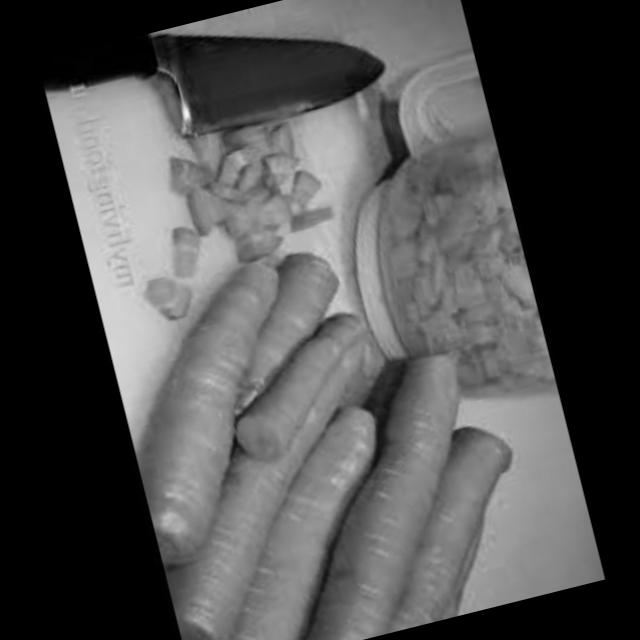ca rot: (112, 296, 435, 640), (220, 329, 515, 640), (98, 240, 342, 568), (136, 392, 427, 640), (101, 67, 361, 301), (358, 126, 558, 423), (350, 408, 552, 631), (210, 310, 382, 470), (210, 234, 368, 400)
